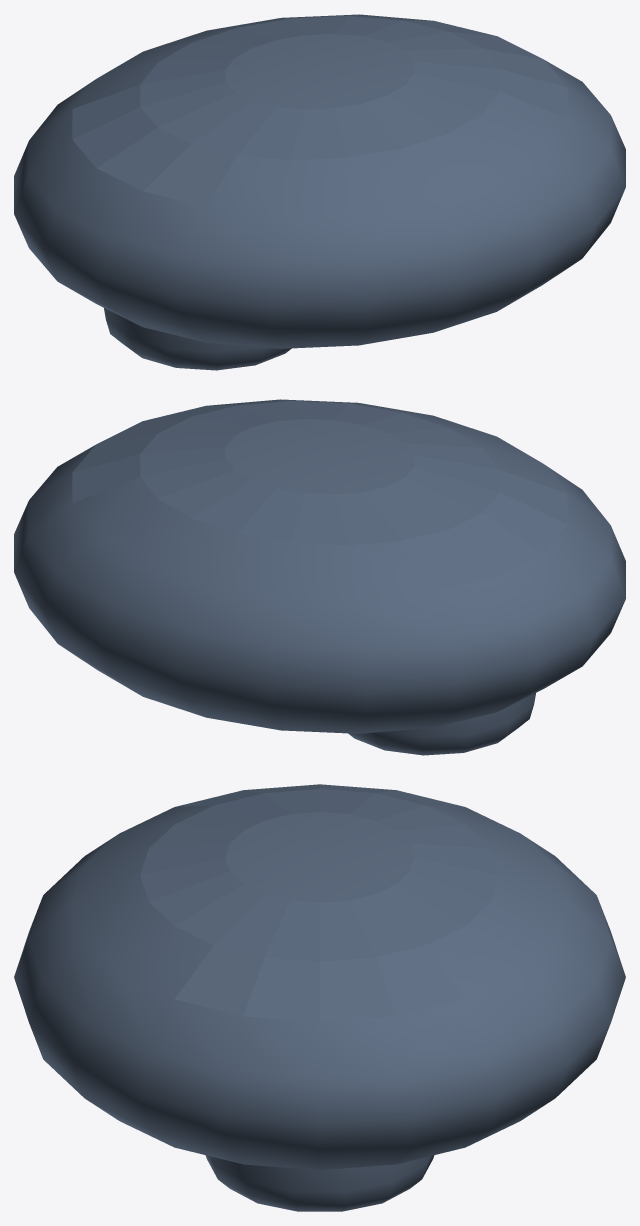
File: Bottom_Shorts.fbx
The picture shows the model from 3 angles, top to bottom: view 1: azimuth 30°, elevation 25°; view 2: azimuth 150°, elevation 25°; view 3: azimuth 270°, elevation 25°; orthographic projection. The views are drawn at different scales.
Parts seen in each view (by area): view 1: Pants_Seat, Shorts_Leg.001; view 2: Pants_Seat, Shorts_Leg.001; view 3: Pants_Seat, Shorts_Leg.
Boxes of the visible parts, <box> form: Pants_Seat: <box>14,14,625,348</box>; Shorts_Leg.001: <box>104,308,291,370</box>; Pants_Seat: <box>14,399,625,733</box>; Shorts_Leg.001: <box>348,693,535,755</box>; Pants_Seat: <box>14,784,625,1170</box>; Shorts_Leg: <box>205,1155,434,1211</box>.
Bounding box in the file's own units: 50 × 21 × 44.
